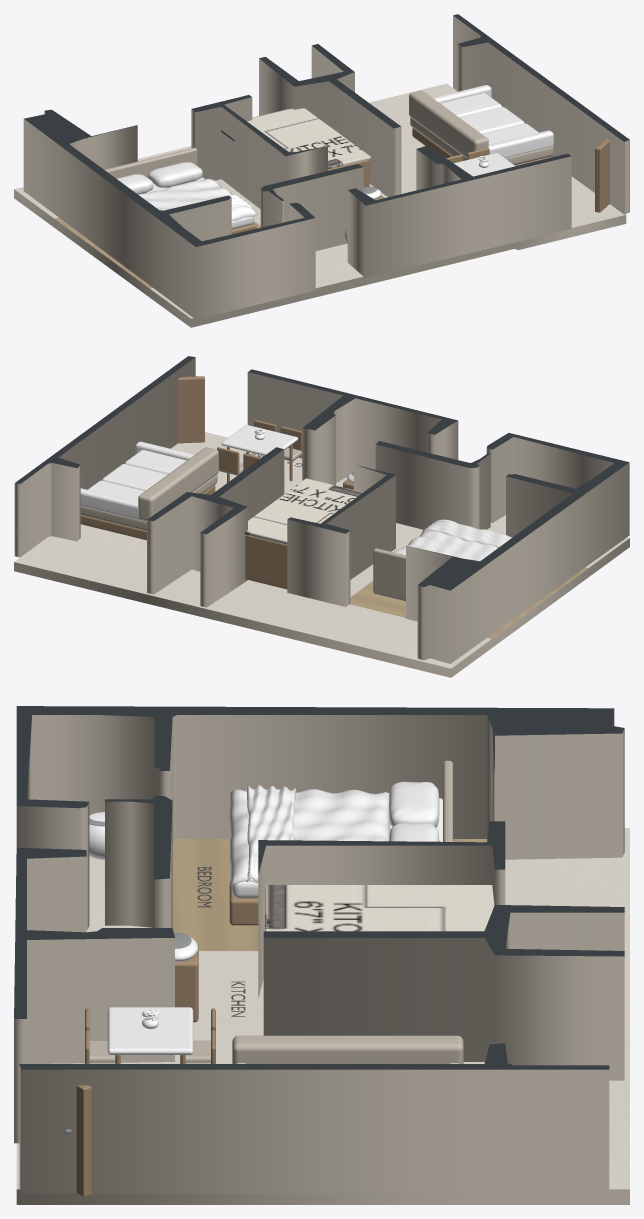
The model's file is opal-group-unit-01.glb.
3 views of the same model, one above another, from view 1: azimuth 30°, elevation 25°; view 2: azimuth 150°, elevation 25°; view 3: azimuth 270°, elevation 25° (orthographic). The views are drawn at different scales.
Parts seen in each view (by area): view 1: Partition walls, Apartment floor, Stone worktop, Sofa back, Draped bed linen, Upholstered headboard, Padded armrest, Seat cushion.001, Open oak door, Tailored pillow.001, Upholstered sofa frame, Seat cushion.002 (+4 smaller); view 2: Partition walls, Apartment floor, Stone worktop, Sofa back, Kitchen cabinets, Open oak door, Draped bed linen, Upholstered headboard, Marble dining top, Draped bed linen.001, Padded armrest.001, Seat cushion.001 (+6 smaller); view 3: Partition walls, Apartment floor, Stone worktop, Sofa back, Draped bed linen, Marble dining top, Draped bed linen.001, Tailored pillow, Open oak door, Vanity cabinet, Tailored pillow.001, Walnut upholstered base (+1 smaller).
Boxes of the visible parts, <box> form: Partition walls: <box>23,14,629,319</box>; Apartment floor: <box>14,83,626,327</box>; Stone worktop: <box>221,108,370,169</box>; Sofa back: <box>409,90,488,158</box>; Draped bed linen: <box>138,178,258,220</box>; Upholstered headboard: <box>104,147,197,178</box>; Padded armrest: <box>488,130,553,157</box>; Seat cushion.001: <box>459,107,524,133</box>; Open oak door: <box>595,138,609,212</box>; Tailored pillow.001: <box>148,162,202,187</box>; Upholstered sofa frame: <box>410,117,553,165</box>; Seat cushion.002: <box>440,93,502,117</box>; Partition walls: <box>14,356,629,663</box>; Apartment floor: <box>14,432,629,677</box>; Stone worktop: <box>245,478,362,544</box>; Sofa back: <box>138,447,218,520</box>; Kitchen cabinets: <box>245,534,287,589</box>; Open oak door: <box>177,376,204,443</box>; Draped bed linen: <box>402,520,512,561</box>; Upholstered headboard: <box>373,548,405,601</box>; Marble dining top: <box>221,425,297,455</box>; Draped bed linen.001: <box>422,519,511,547</box>; Padded armrest.001: <box>80,488,146,521</box>; Seat cushion.001: <box>102,464,167,490</box>; Partition walls: <box>14,706,624,1193</box>; Apartment floor: <box>16,828,629,1204</box>; Stone worktop: <box>265,885,494,931</box>; Sofa back: <box>232,1035,463,1063</box>; Draped bed linen: <box>229,789,390,885</box>; Marble dining top: <box>107,1007,193,1054</box>; Draped bed linen.001: <box>246,785,296,881</box>; Tailored pillow: <box>389,781,439,827</box>; Open oak door: <box>76,1085,91,1197</box>; Vanity cabinet: <box>175,942,198,1022</box>; Tailored pillow.001: <box>389,823,439,841</box>; Walnut upholstered base: <box>229,885,258,925</box>.
Size of the model in its own units: 8.17 by 1.44 by 5.76.
Materials: 12 (2 with a texture image).
